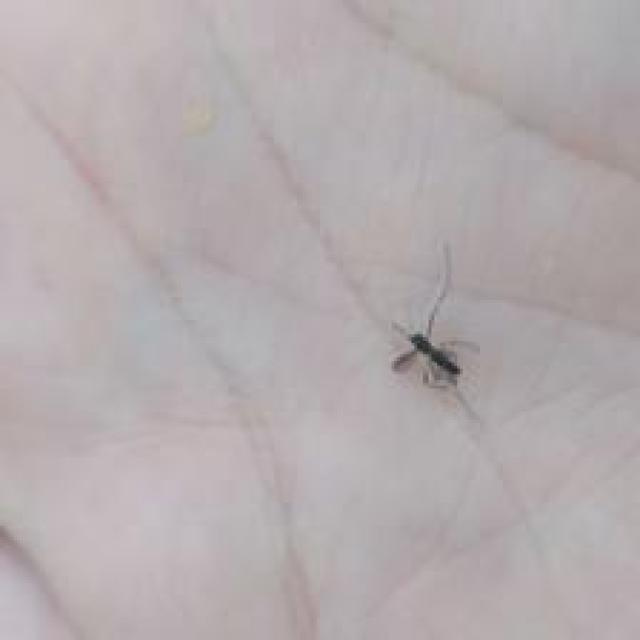Aedes albopictus: (389, 240, 480, 397)
